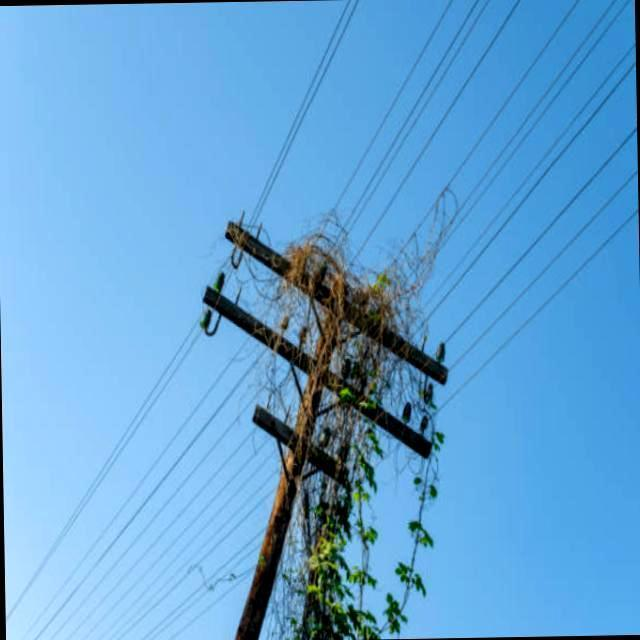critical vegetation: (277, 230, 453, 620)
